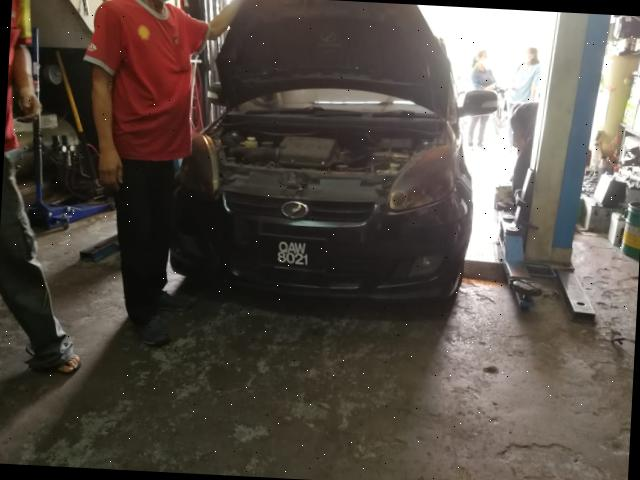License_Plate: (258, 235, 329, 275)
